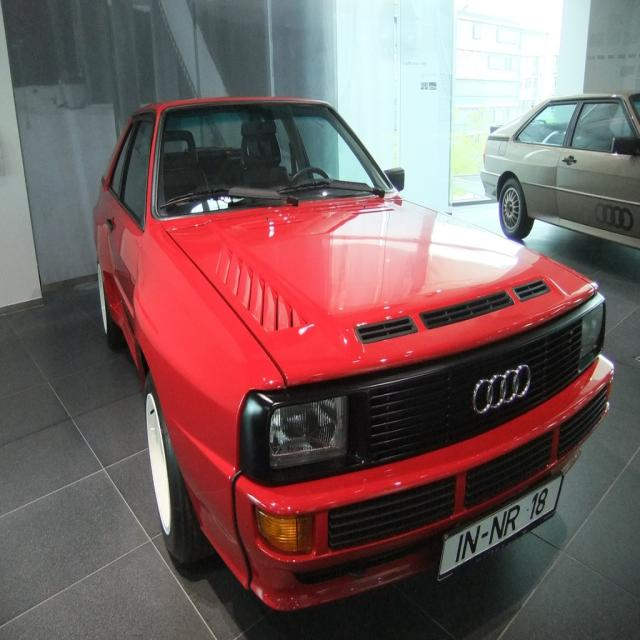car: (90, 93, 613, 612)
